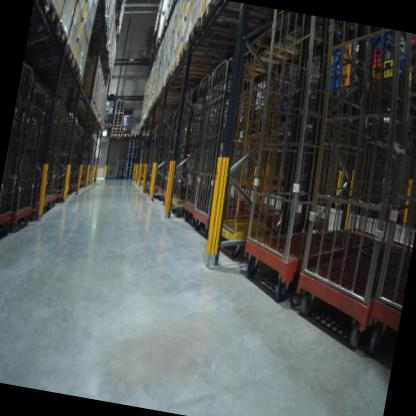pallet: (185, 18, 263, 60), (196, 0, 267, 38), (170, 51, 234, 88), (178, 35, 237, 74), (24, 60, 87, 95), (28, 49, 83, 83), (26, 34, 78, 64), (29, 20, 73, 50), (159, 74, 203, 100), (29, 0, 63, 32), (154, 86, 197, 109), (164, 66, 201, 89), (119, 130, 131, 139), (101, 120, 111, 130), (113, 106, 124, 115), (129, 131, 139, 140), (127, 136, 138, 144), (110, 122, 122, 129), (109, 129, 123, 135), (127, 140, 139, 147), (106, 90, 116, 98), (112, 113, 123, 120), (112, 116, 123, 123), (116, 160, 127, 167), (116, 96, 125, 104), (114, 167, 126, 173), (115, 101, 125, 108), (110, 133, 120, 140), (112, 120, 123, 126), (125, 162, 136, 168), (114, 104, 124, 110), (113, 111, 123, 117), (112, 126, 122, 132), (116, 158, 126, 164), (124, 176, 134, 182), (127, 145, 138, 150), (116, 165, 126, 170), (125, 172, 135, 177), (125, 169, 135, 174), (125, 166, 135, 171), (126, 159, 136, 164), (115, 171, 124, 176), (127, 156, 136, 161), (127, 149, 136, 154), (126, 153, 136, 157), (115, 175, 124, 179)
